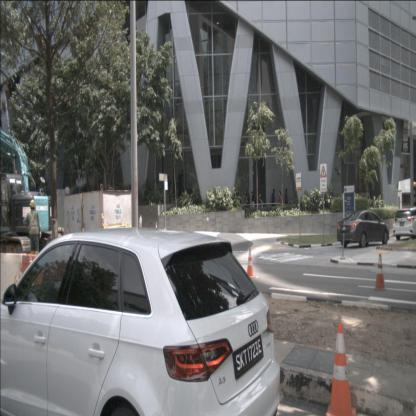human-pedestrian-adult: (256, 192, 264, 220), (271, 188, 276, 219), (245, 192, 250, 218), (279, 190, 283, 219), (284, 189, 288, 217), (251, 191, 255, 217)
movable_object-barrier: (21, 254, 79, 324), (0, 252, 27, 320)
movable_object-trafficcone: (326, 322, 356, 416), (374, 253, 387, 290), (245, 247, 255, 278)
vehicle-car: (0, 228, 282, 416), (336, 210, 390, 248), (392, 207, 416, 241)
